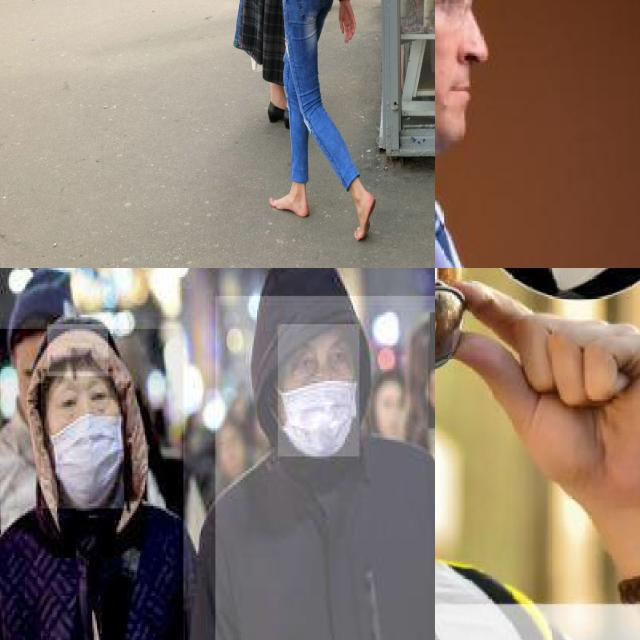Barefoots: (354, 191, 376, 241), (269, 194, 309, 217)
face_mask: (41, 372, 124, 508), (278, 324, 359, 457)
face_nomask: (435, 0, 492, 119)
hand_noglove: (443, 274, 640, 525)
head_nohelmet: (262, 268, 358, 347), (48, 324, 108, 376)
person: (215, 296, 435, 640), (0, 329, 185, 640), (435, 0, 503, 268)
